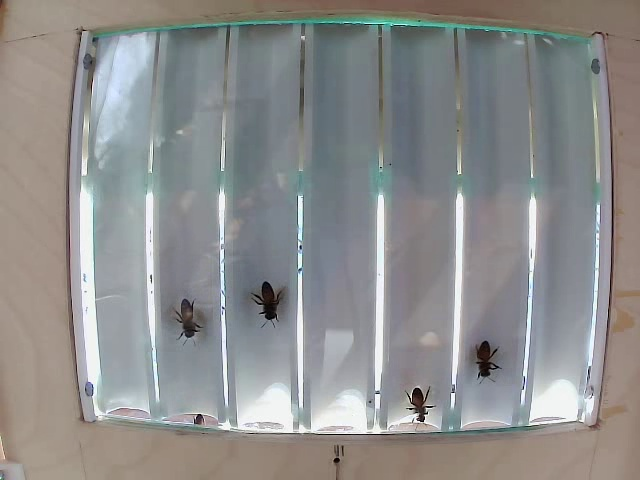bee: (393, 371, 447, 433), (251, 284, 294, 334), (170, 309, 214, 347), (465, 337, 500, 378)
